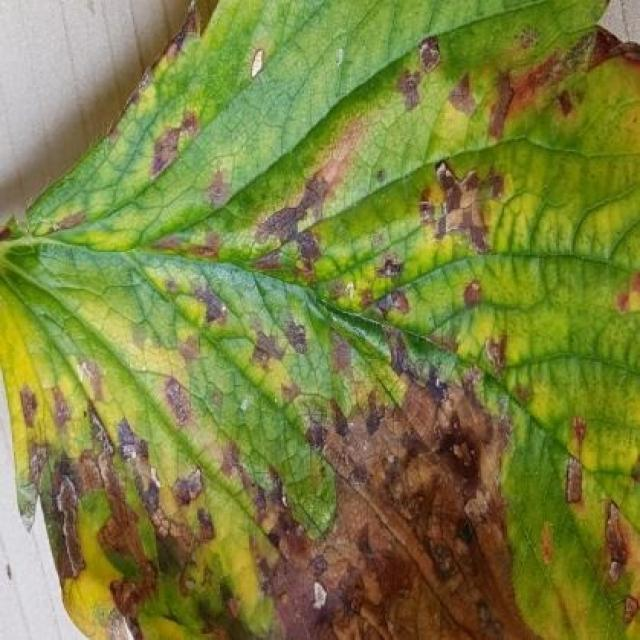Angular Leafspot: (0, 0, 638, 638)
